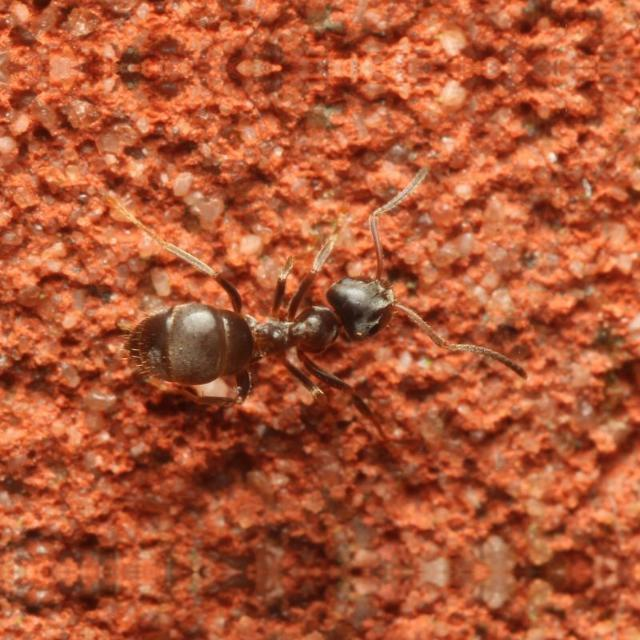Lasius: (108, 230, 454, 426)
